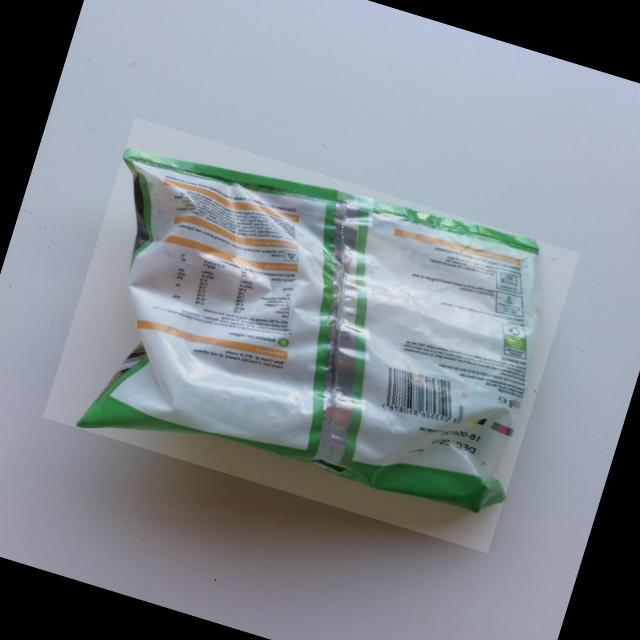Plastic film: (75, 148, 539, 513)
